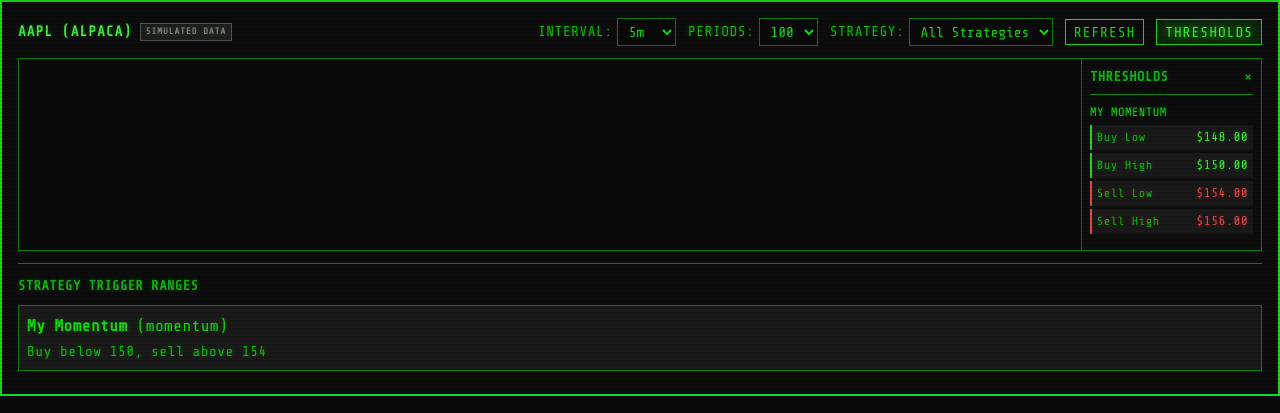
Test case: CandlestickChart › hides thresholds panel and removes price lines when toggled off
Expected: the text "$148.00" is shown, [1196,128,1248,147]
Note: Toggle thresholds off
Click the button "Thresholds".
click(1209, 32)  # box [1156,19,1262,45]
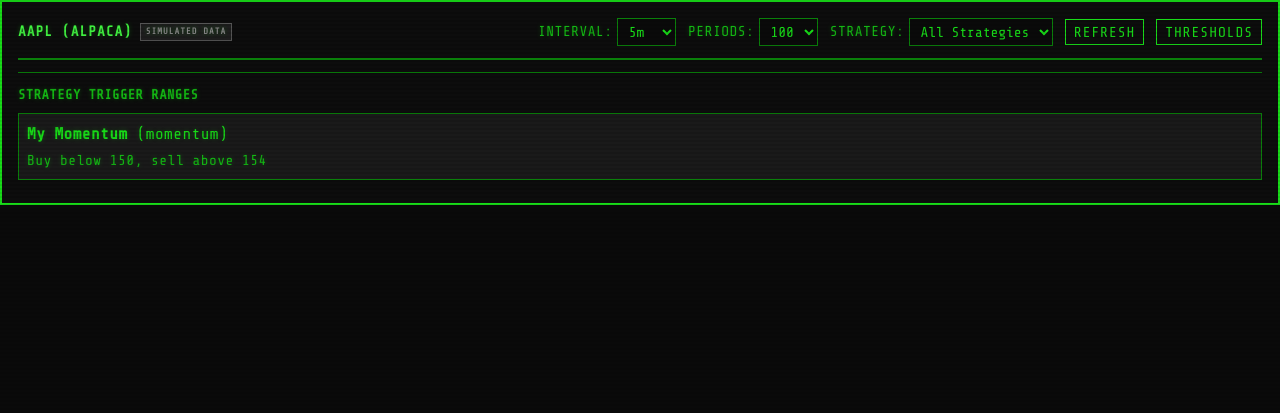
Expected: the heading "Strategy Trigger Ranges" is shown, [18,87,198,102]
Now the text "$148.00" is gone
